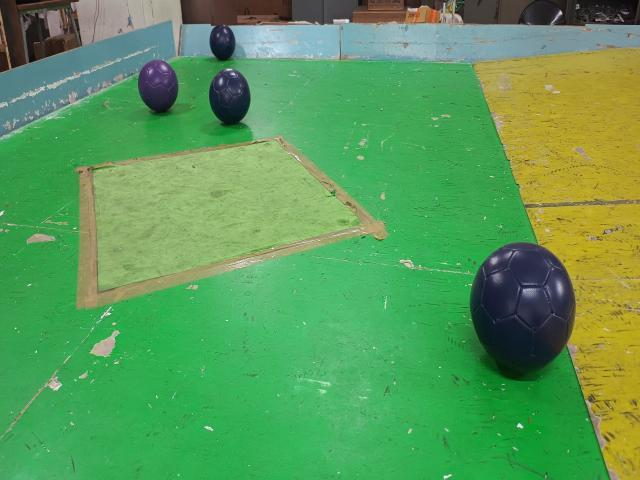jambhalya: (138, 60, 179, 112)
kaalyya: (470, 242, 575, 372), (209, 68, 250, 125), (210, 25, 236, 60)
